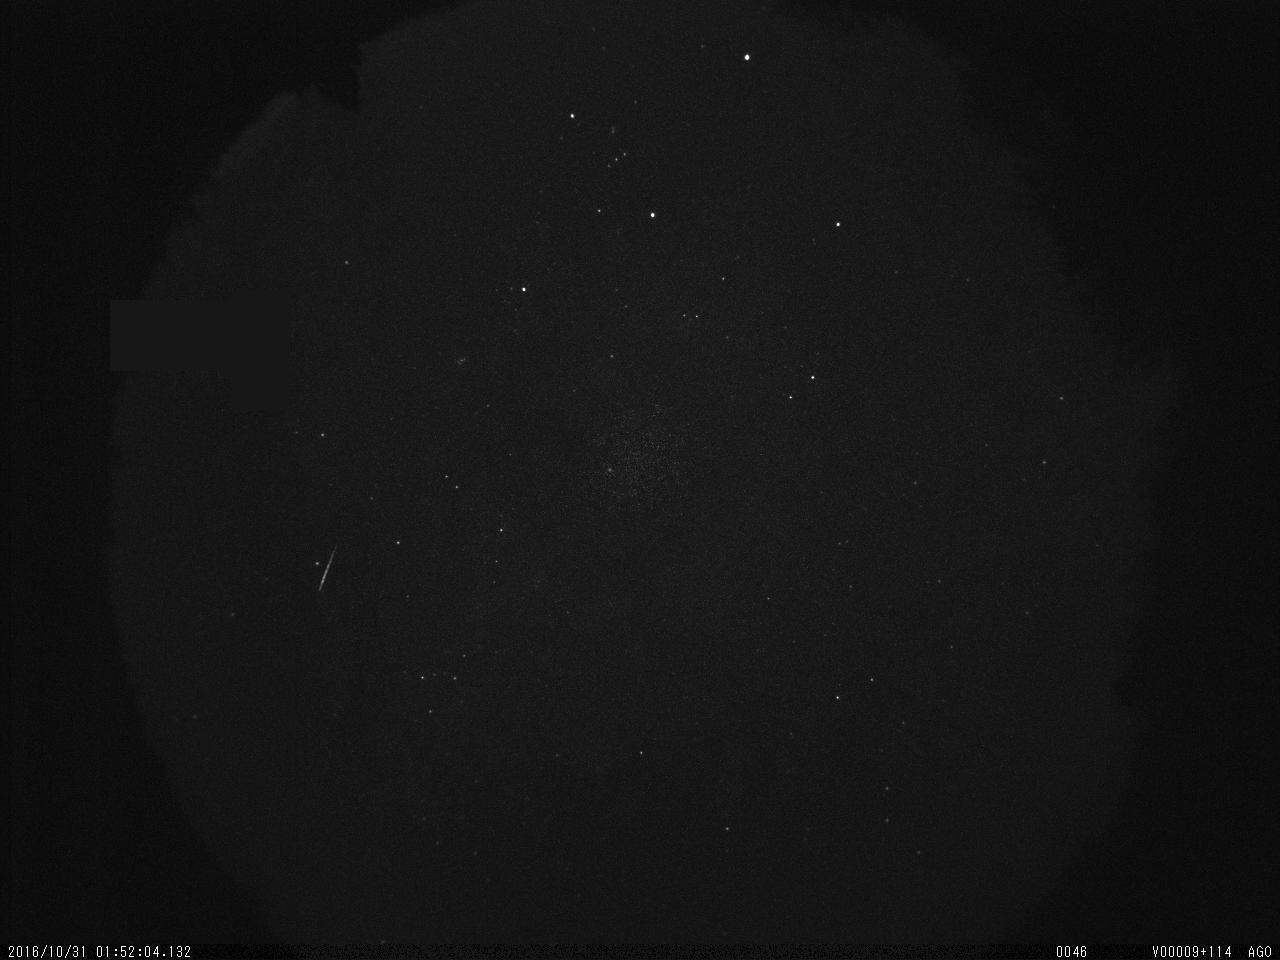Meteor: (316, 545, 338, 593)
